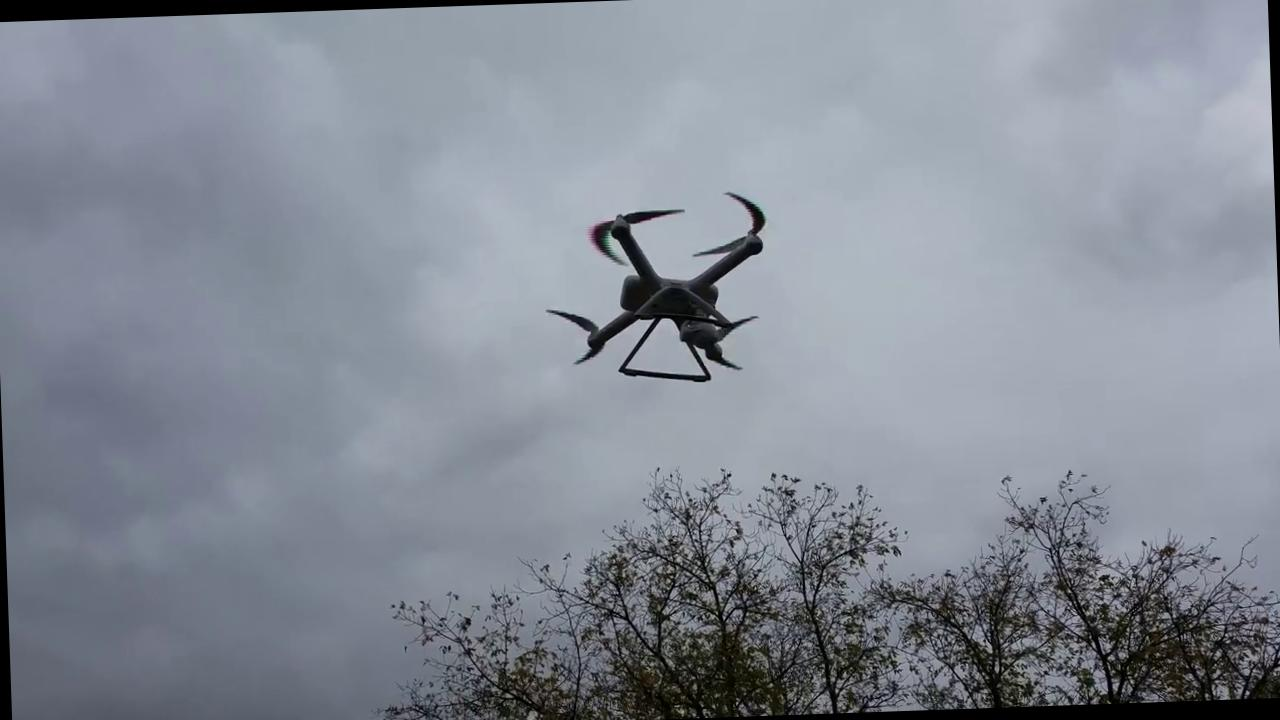drone: (538, 180, 784, 398)
